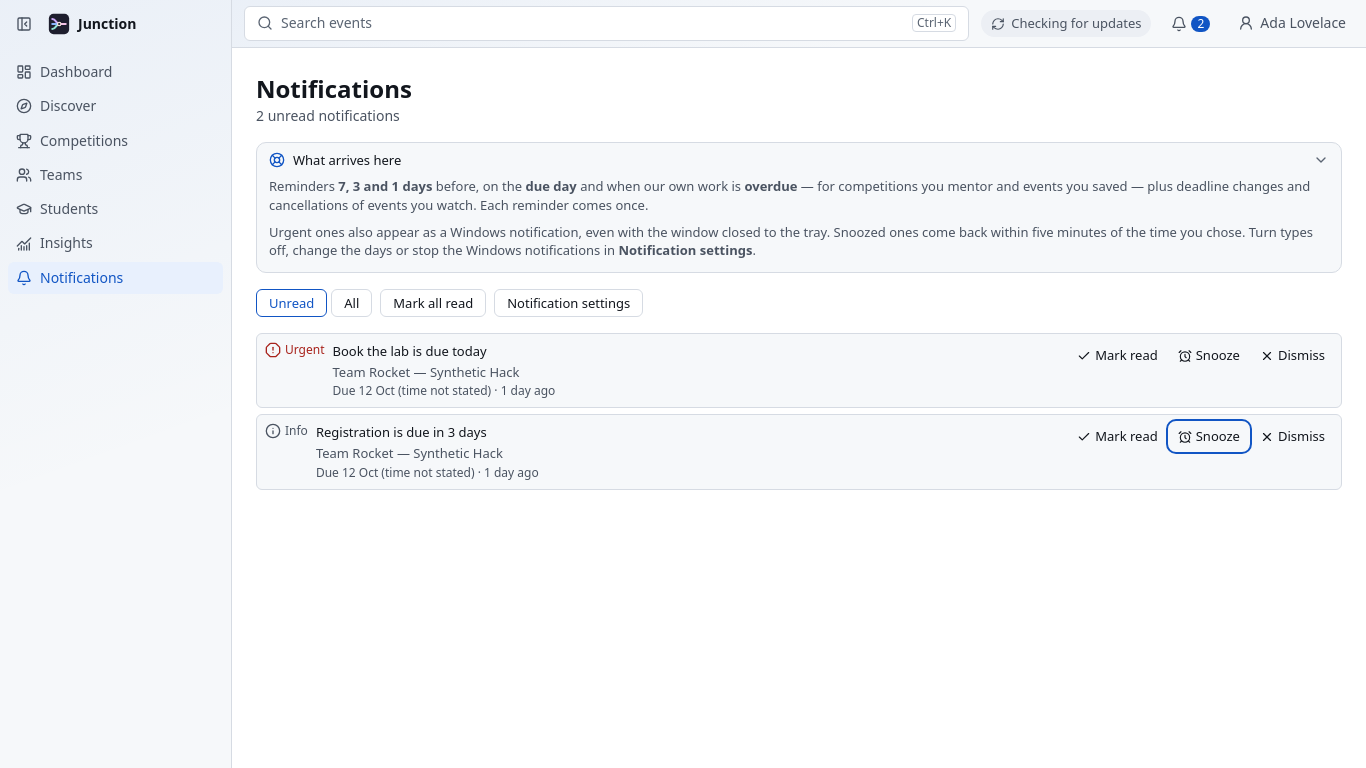
it: the Inbox › snooze: the choices and a typed time, all by keyboard
This screenshot has width=1366, height=768.
Check: the navigation bar named "Main" is shown, box x1=0 y1=0 x2=231 y2=302
Press Enter
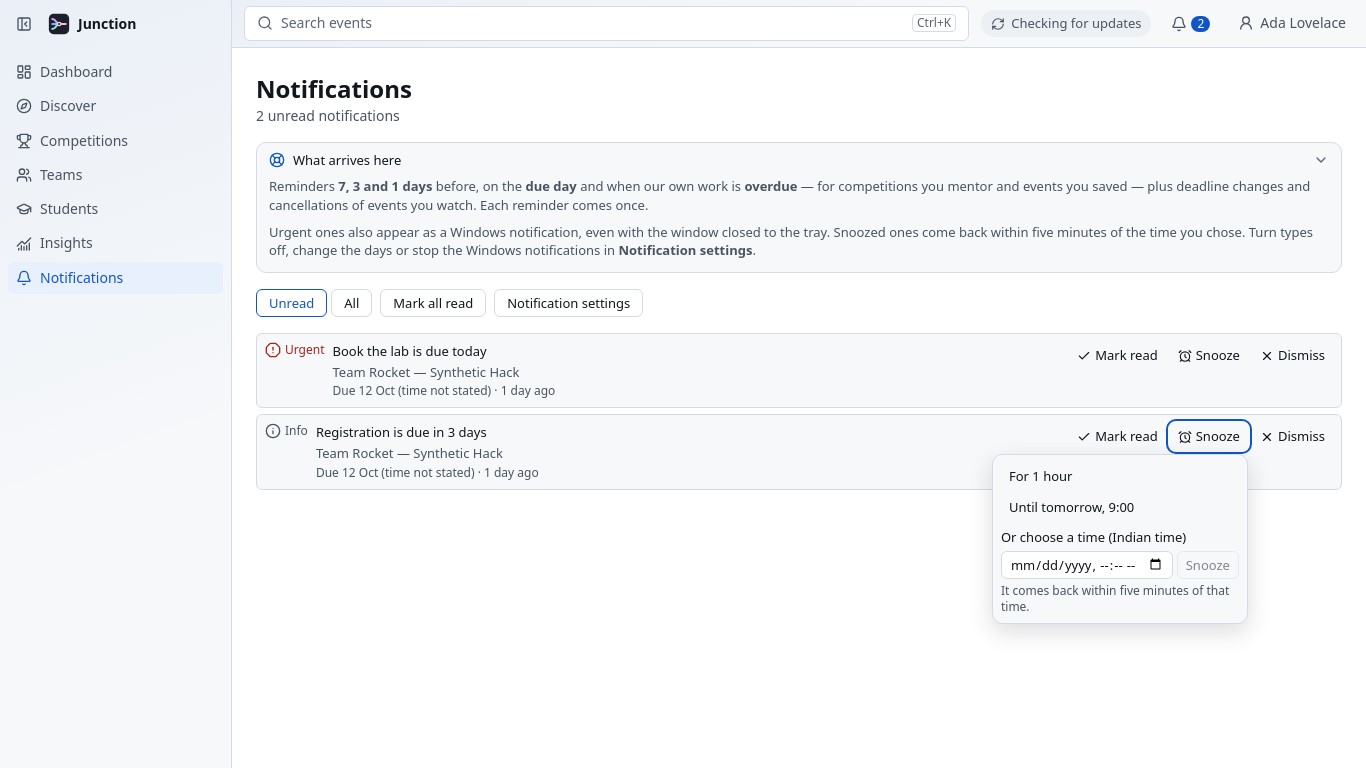
Check: the button "For 1 hour" is shown, box x1=1001 y1=463 x2=1239 y2=490
Check: the button "Until tomorrow, 9:00" is shown, box x1=1001 y1=494 x2=1239 y2=520
Type "2099-01-02T10:30" into the field labelled "Or choose a time (Indian time)".
click(1087, 565); type("2099-01-02T10:30")  # box x1=1001 y1=551 x2=1173 y2=579
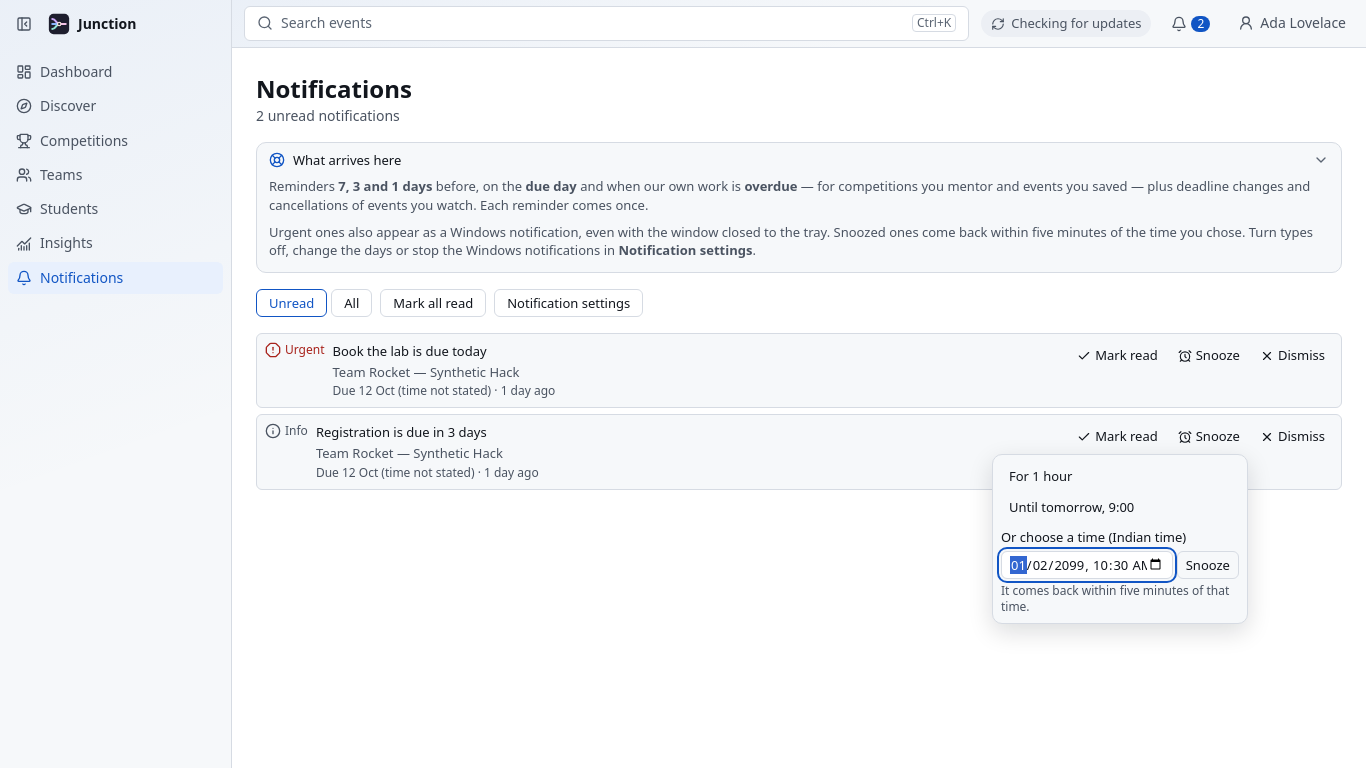
Click the button "Snooze" below "Or choose a time (Indian time)".
click(1208, 565)  # box x1=1177 y1=551 x2=1239 y2=579
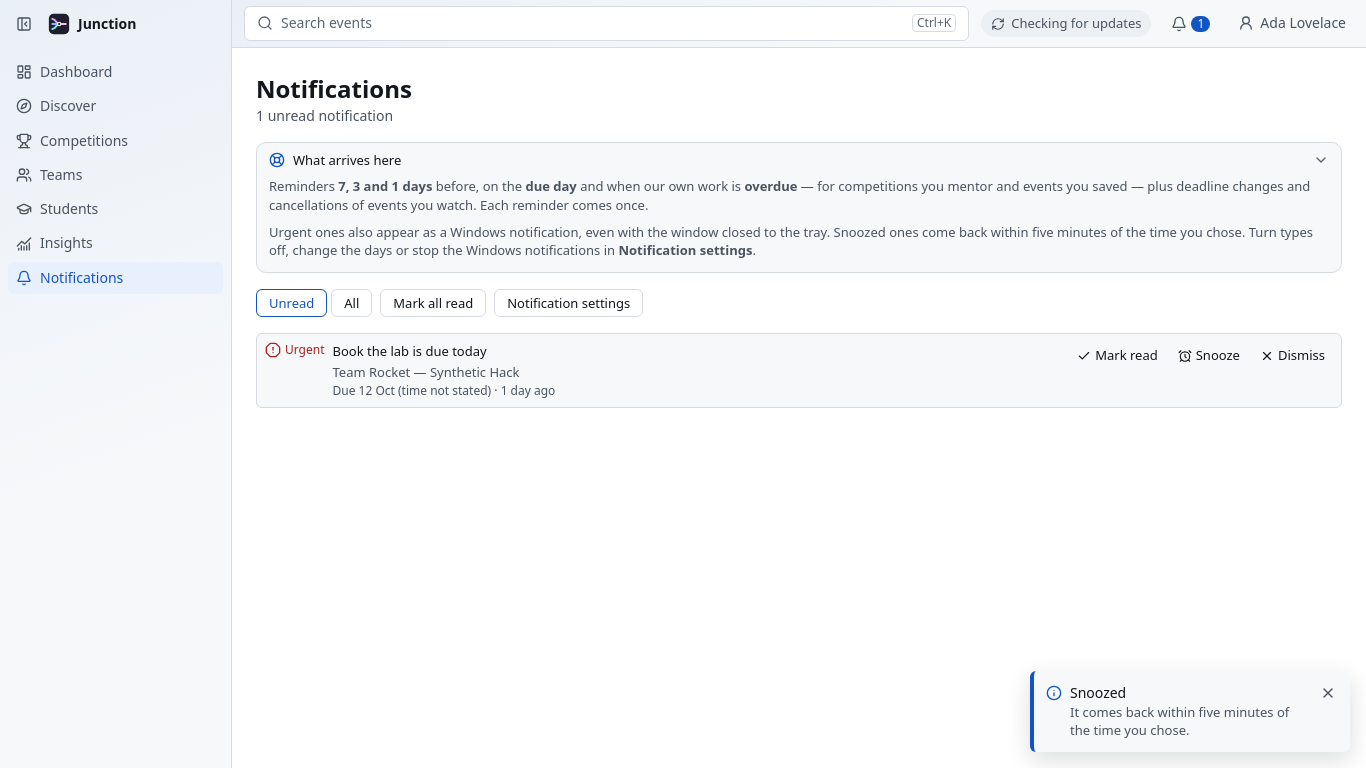
Check: the text "It comes back within five minutes of the time you chose." is shown, box x1=1070 y1=703 x2=1310 y2=740
